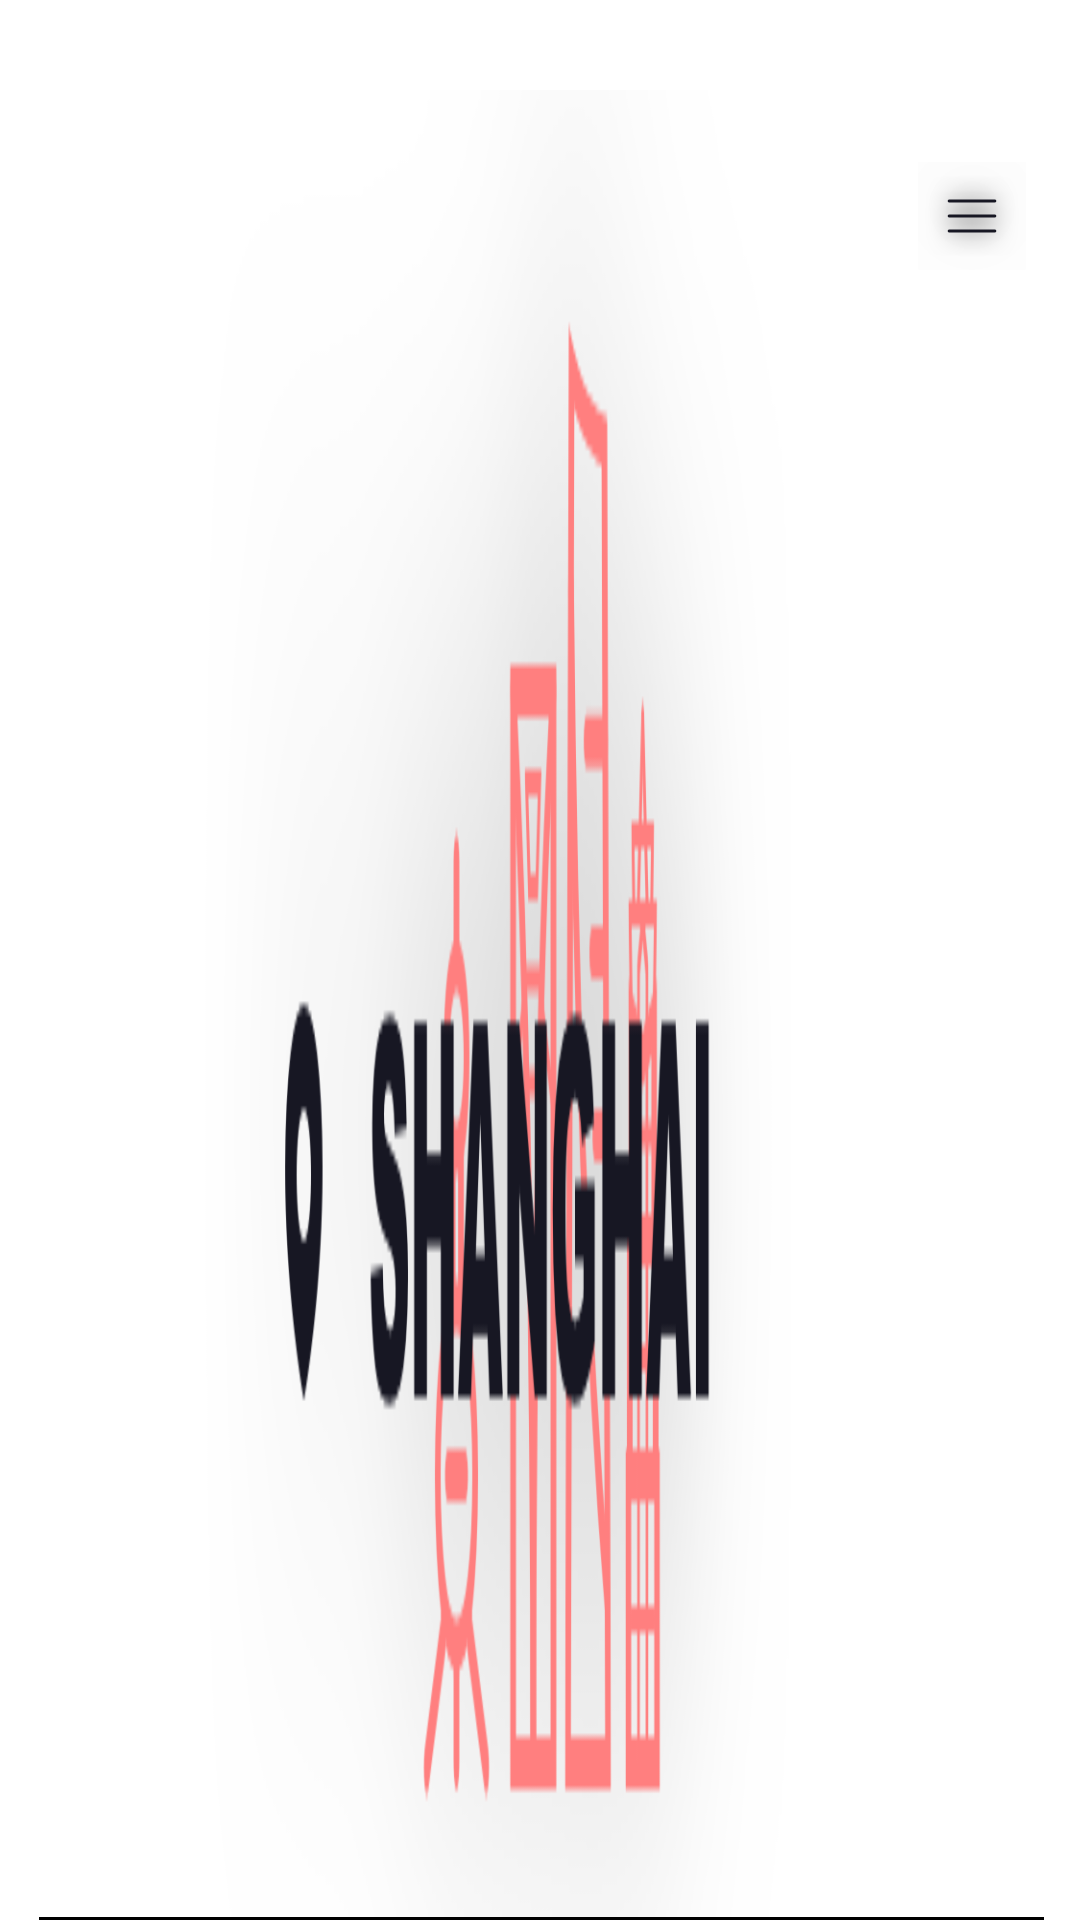

Where icons sit on this 1080x1920 app screen, as [x1,y1,x2,y2]:
more: [946,192,998,240]
